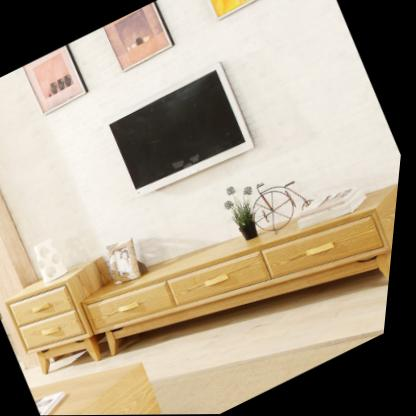TV stand: (11, 184, 402, 376)
